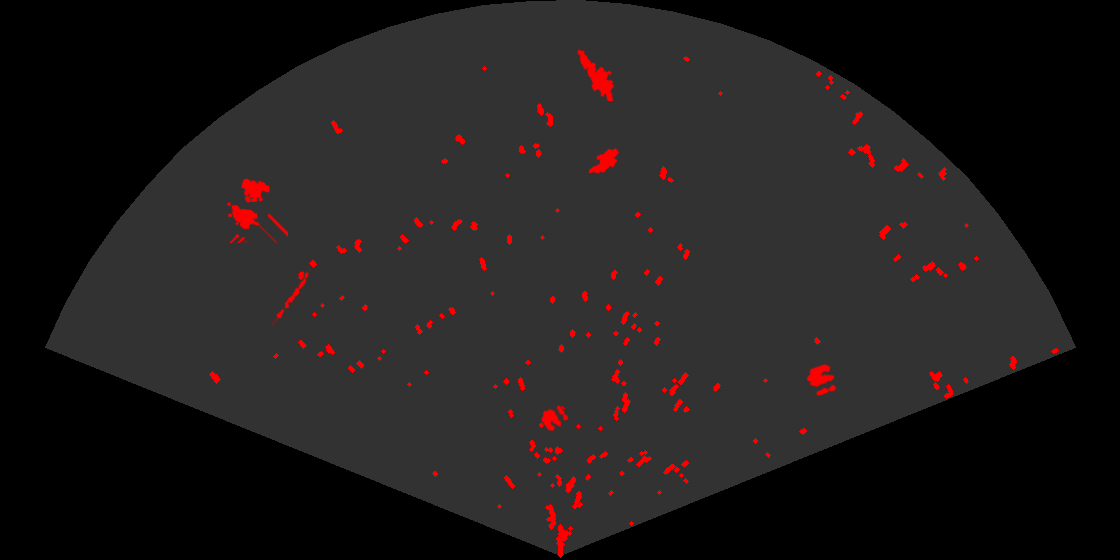AUV: (587, 147, 621, 175)
ball: (805, 362, 838, 398), (539, 404, 570, 433)
cage: (225, 177, 288, 243)
chain: (272, 269, 313, 325)
frogman: (576, 47, 616, 101)
